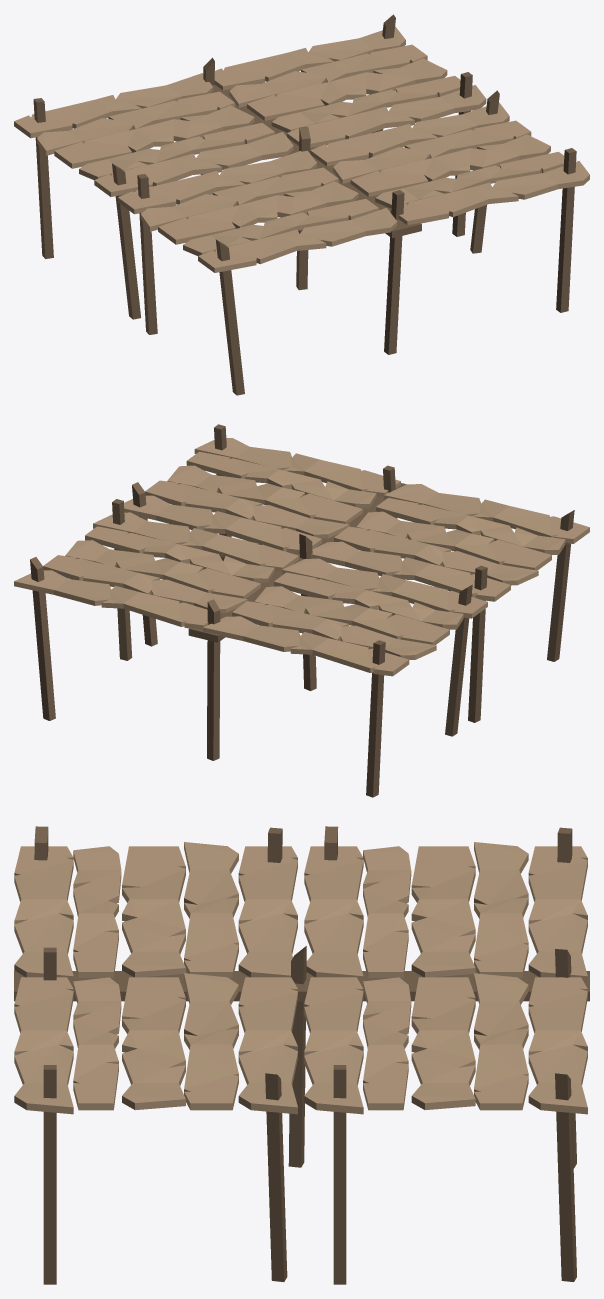
Rendered from Platform_1.fbx.
3 renders of one model, top to bottom at view 1: azimuth 30°, elevation 25°; view 2: azimuth 150°, elevation 25°; view 3: azimuth 270°, elevation 25°, orthographic. The views are drawn at different scales.
Parts seen in each view (by area): view 1: Platform_1; view 2: Platform_1; view 3: Platform_1.
Part boxes in pixels (x1,y1,x2,y2): Platform_1: [14, 14, 589, 395]; Platform_1: [14, 424, 589, 797]; Platform_1: [14, 826, 589, 1284].
Size of the model in its own units: 669 by 259 by 614.
1 material, 1 textured.
